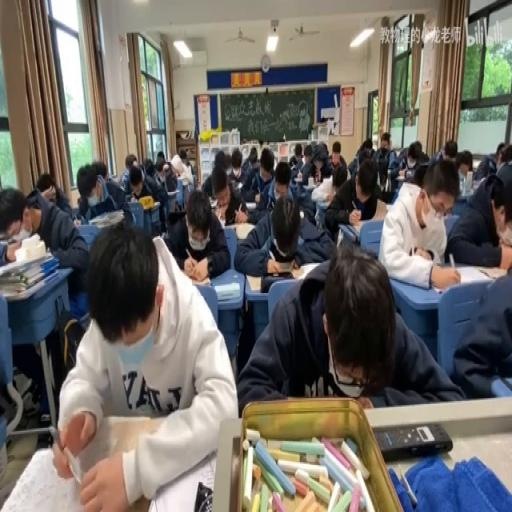calculator: (0, 443, 96, 512), (147, 448, 218, 512), (0, 244, 50, 278), (454, 263, 504, 283), (214, 282, 240, 300), (336, 222, 356, 244), (234, 222, 256, 240), (184, 272, 210, 284), (470, 176, 485, 192), (0, 233, 18, 245), (299, 181, 316, 192), (211, 213, 225, 226), (222, 220, 237, 230), (315, 196, 329, 205), (208, 196, 218, 206), (232, 180, 242, 190), (294, 169, 302, 181), (72, 216, 82, 225), (166, 189, 178, 196), (245, 201, 255, 209), (393, 148, 402, 156), (395, 172, 405, 179)
paper: (238, 240, 460, 410), (2, 179, 88, 417), (451, 180, 512, 400), (379, 155, 464, 289), (232, 184, 330, 273), (162, 184, 229, 278), (325, 155, 385, 242), (77, 158, 134, 226), (31, 171, 73, 219), (139, 158, 172, 217), (371, 134, 397, 190), (472, 142, 507, 181), (304, 141, 336, 183), (397, 139, 429, 171), (168, 148, 194, 183), (272, 160, 291, 200), (454, 148, 473, 181), (240, 145, 258, 179), (331, 161, 347, 189), (258, 148, 274, 175), (289, 142, 304, 169), (442, 138, 458, 161), (128, 169, 142, 195), (218, 150, 232, 174), (96, 159, 108, 179), (331, 140, 341, 164), (231, 155, 242, 174), (155, 150, 165, 170), (125, 154, 137, 170), (362, 138, 372, 155), (142, 158, 153, 173), (302, 144, 312, 160), (494, 150, 504, 164), (380, 168, 386, 186), (180, 155, 186, 165)
person: (373, 422, 453, 461), (261, 276, 294, 293), (168, 206, 186, 219)
